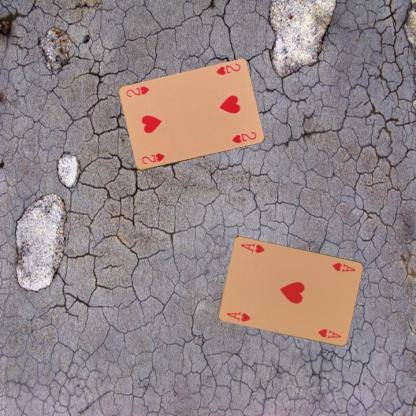2h: (213, 61, 242, 76), (138, 151, 166, 165)
Ah: (224, 309, 252, 323), (330, 260, 357, 273)
